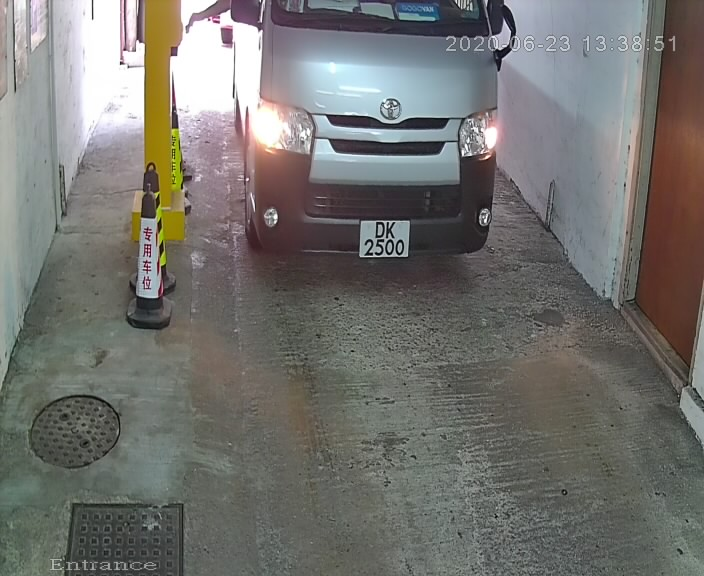van_s: (217, 1, 509, 275)
